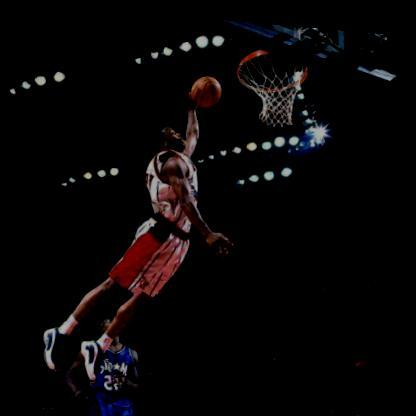basketball: (188, 69, 227, 107)
rim: (228, 37, 318, 127)
